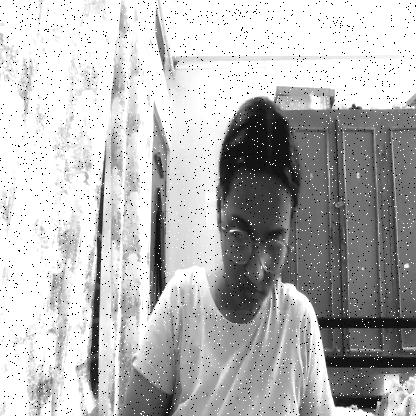Normal: (215, 119, 289, 310)
